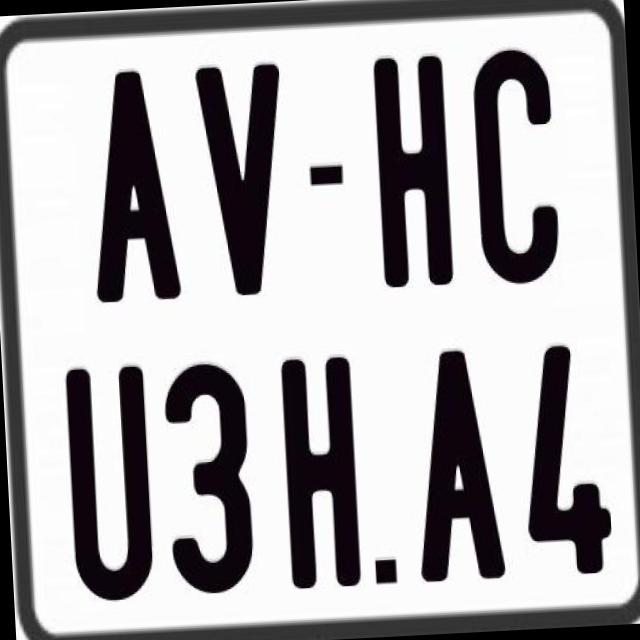3: (162, 361, 262, 595)
4: (519, 340, 619, 575)
A: (86, 70, 184, 308), (407, 348, 507, 580)
C: (472, 46, 562, 288)
H: (279, 357, 362, 592), (369, 54, 451, 290)
U: (62, 362, 154, 598)
V: (196, 59, 296, 295)
